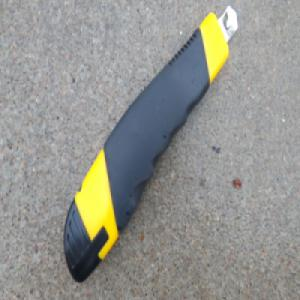Cutter: (62, 3, 239, 284)
